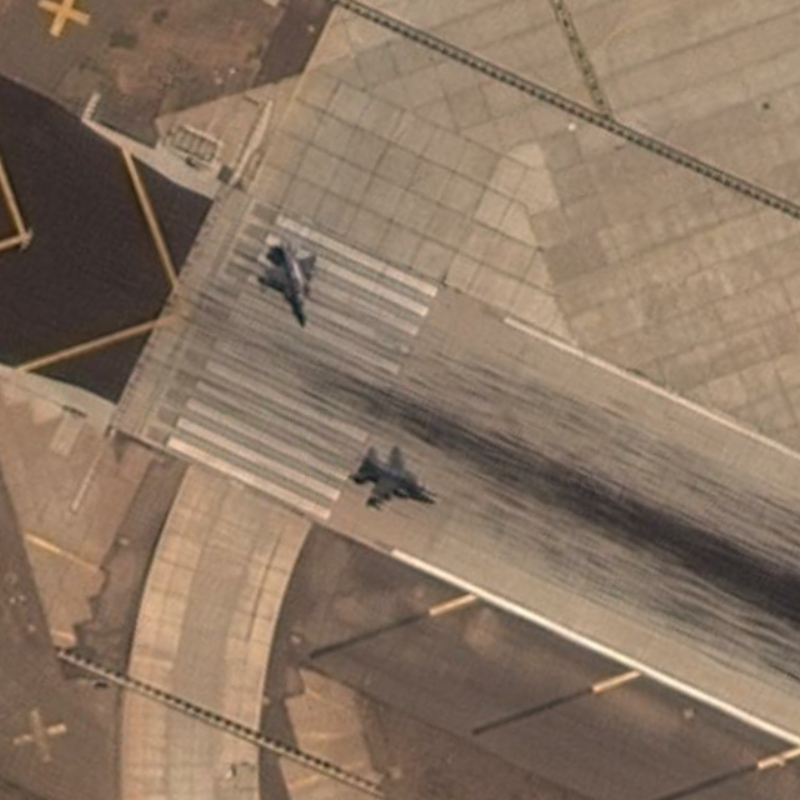A5: (344, 437, 447, 512), (254, 234, 327, 333)
